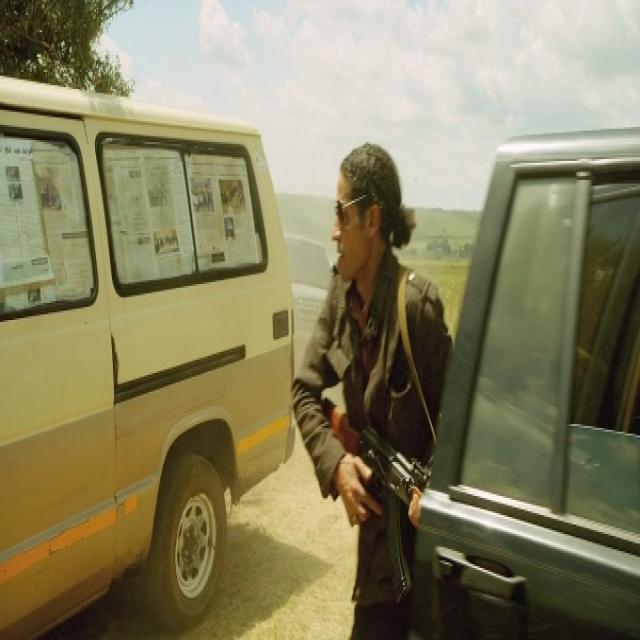rifle: (318, 393, 432, 600)
